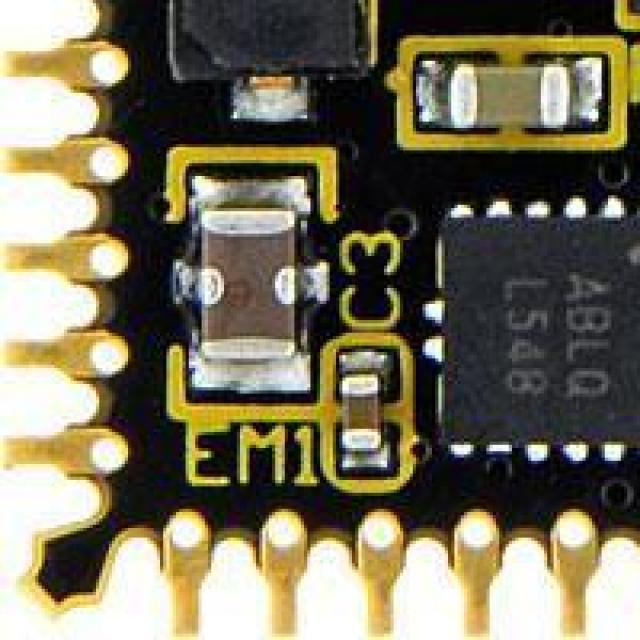EM: (170, 154, 323, 419)
IC: (435, 198, 640, 454), (624, 0, 640, 22)
capacitor: (400, 45, 621, 141), (330, 336, 400, 493)
connector: (141, 502, 640, 640), (0, 0, 131, 493)
switch: (157, 0, 368, 61)
